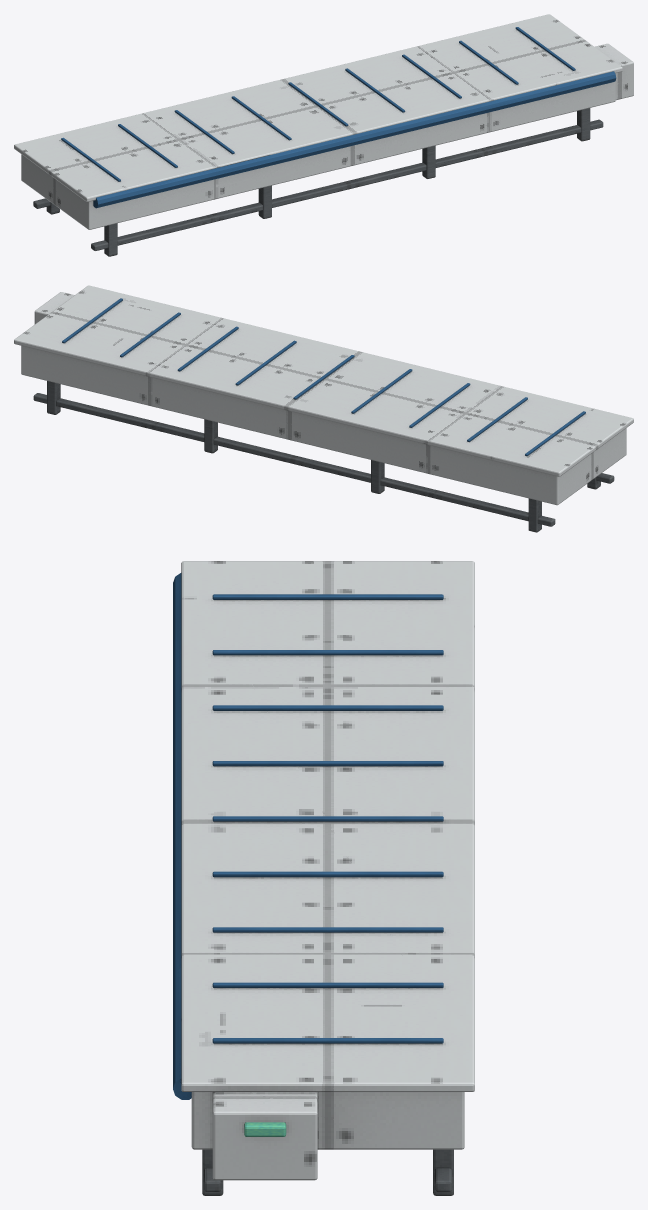
The model's file is base_hydro_basin.glb.
3 views of the same model, one above another, from view 1: azimuth 30°, elevation 25°; view 2: azimuth 150°, elevation 25°; view 3: azimuth 270°, elevation 25° (orthographic). The views are drawn at different scales.
Parts seen in each view (by area): view 1: base_hydro_basin; view 2: base_hydro_basin; view 3: base_hydro_basin.
Boxes of the visible parts, x1=… form: base_hydro_basin: x1=14, y1=14, x2=633, y2=256; base_hydro_basin: x1=14, y1=285, x2=633, y2=532; base_hydro_basin: x1=173, y1=561, x2=474, y2=1195.
Bounding box in the file's own units: 6.16 × 0.76 × 1.44.
5 materials, 5 textured.
